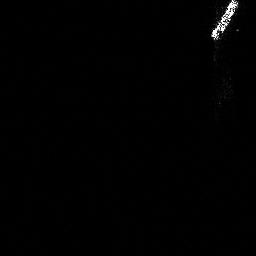ship: (209, 1, 241, 41)
